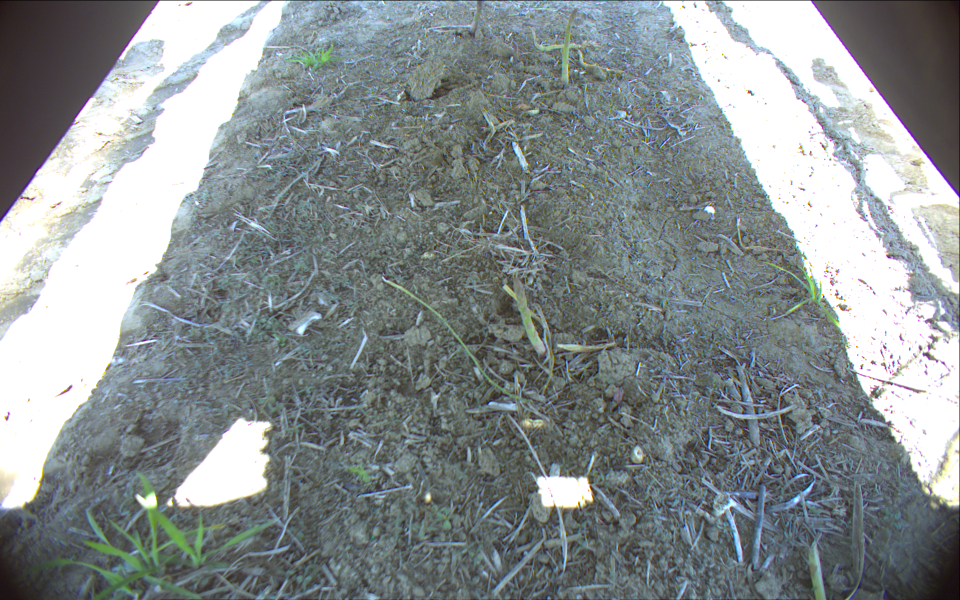aspa: (509, 278, 548, 362), (557, 8, 577, 87), (471, 1, 485, 33)
